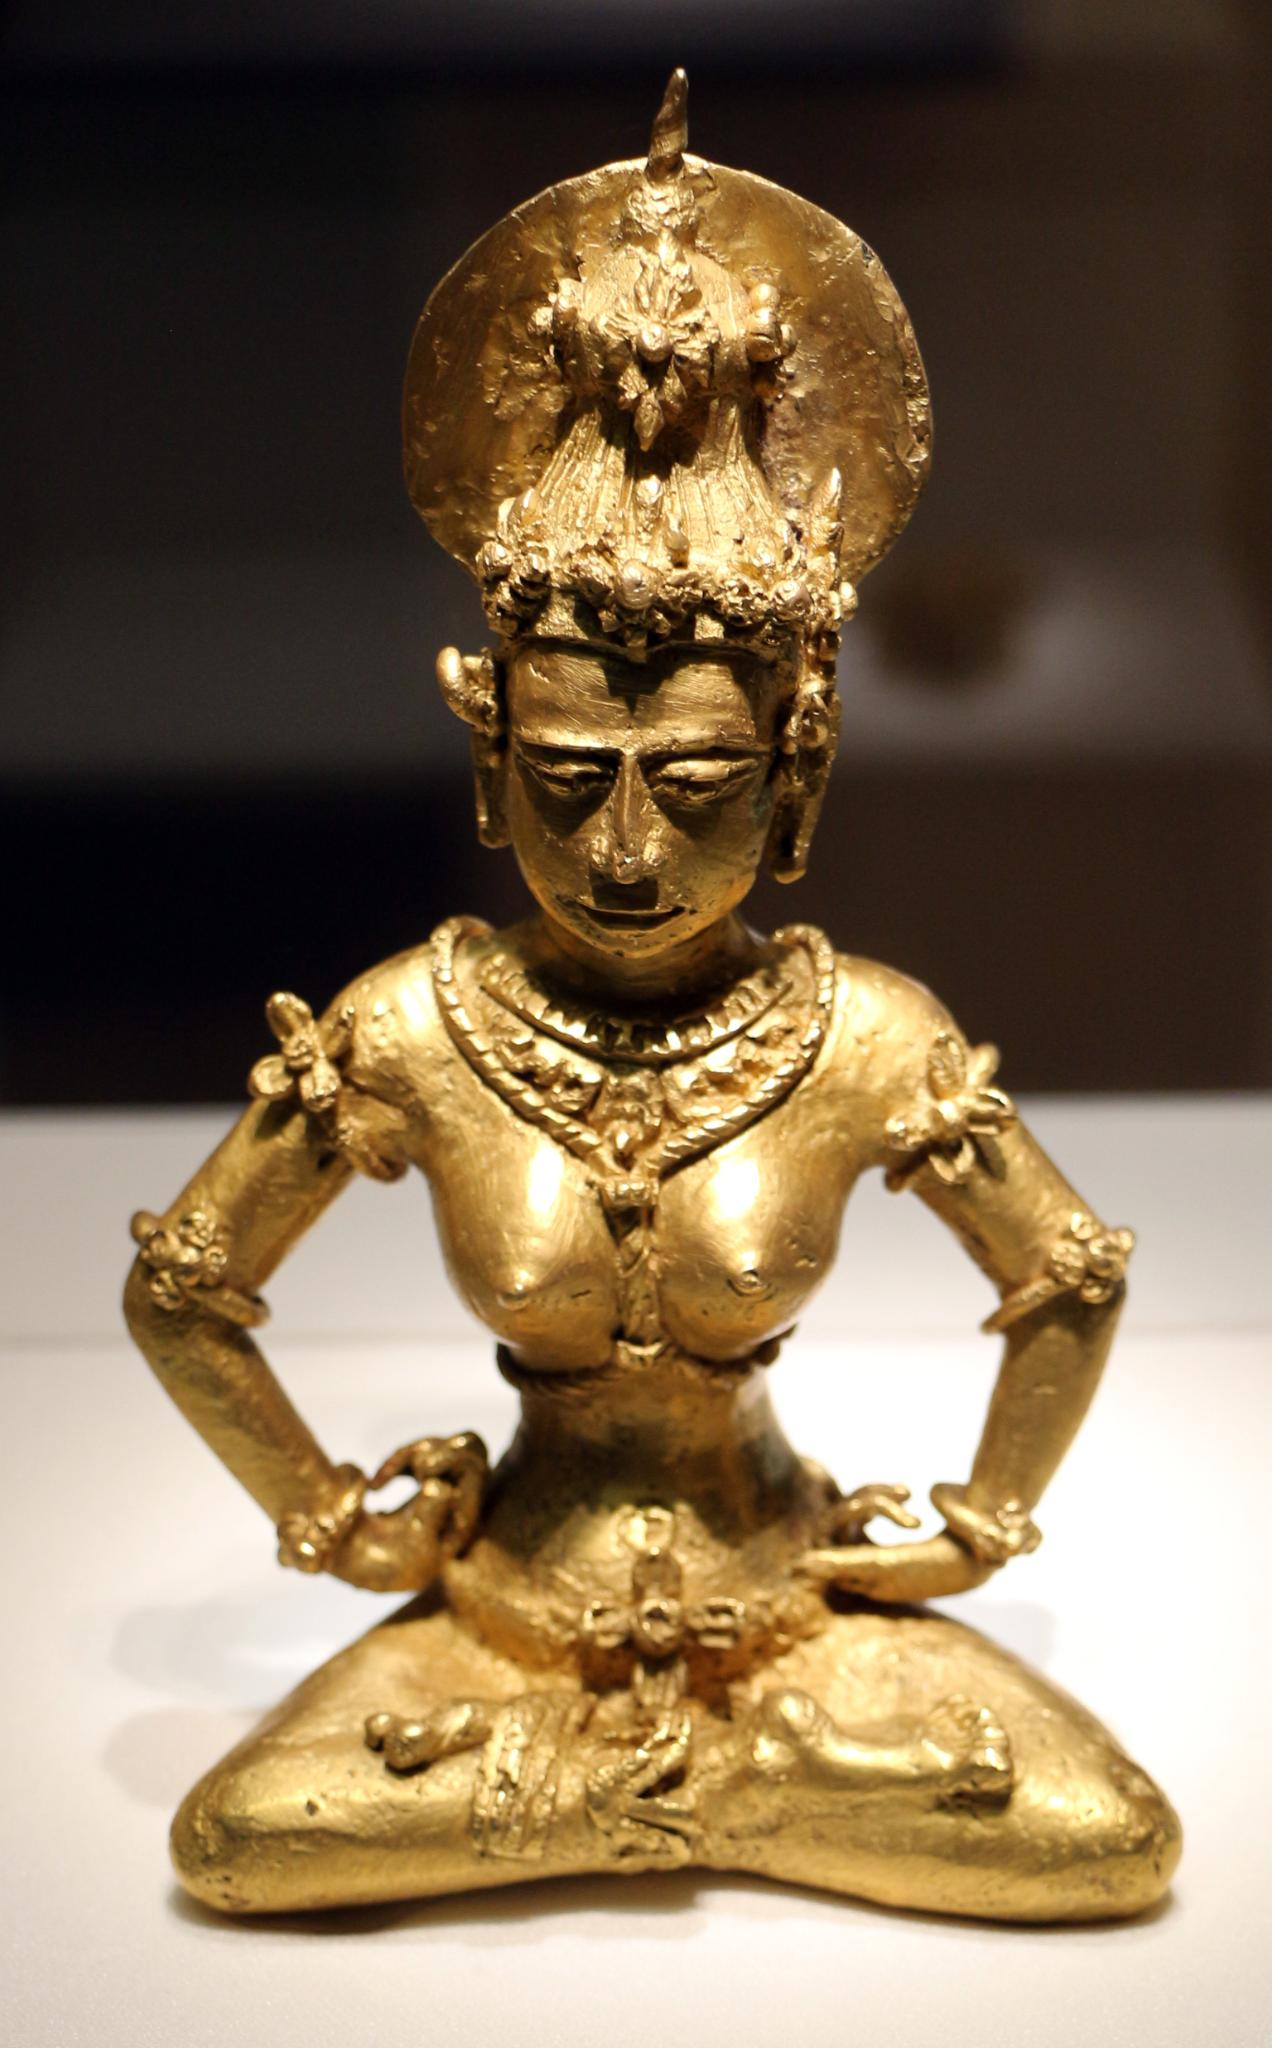golden_tara_of_agusan: (110, 53, 1218, 1966)
